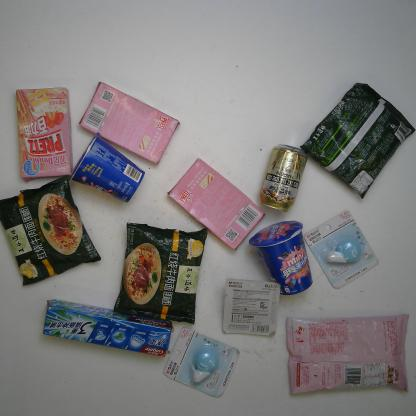Alcohol: (257, 142, 310, 214)
Dessert: (168, 157, 266, 251), (78, 82, 182, 164), (65, 130, 146, 206), (14, 85, 75, 181), (250, 220, 314, 296)
Instant Noodles: (297, 80, 416, 204), (0, 175, 102, 287), (112, 222, 210, 326)
Personal Hygiene: (39, 298, 174, 358)
Puffed Food: (283, 309, 410, 396)
Stationery: (304, 208, 379, 290), (163, 326, 241, 398), (221, 277, 282, 338)
